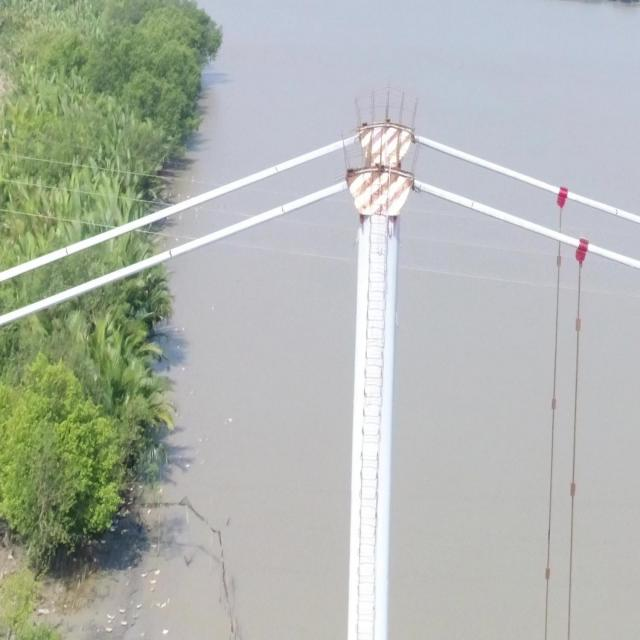crack: (281, 205, 286, 214), (470, 200, 475, 208), (274, 166, 279, 173), (65, 247, 69, 255), (168, 250, 172, 258), (615, 208, 618, 215)
